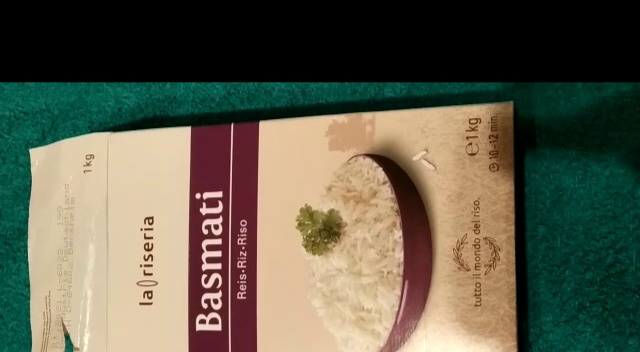basmati_rice: (20, 98, 525, 352)
